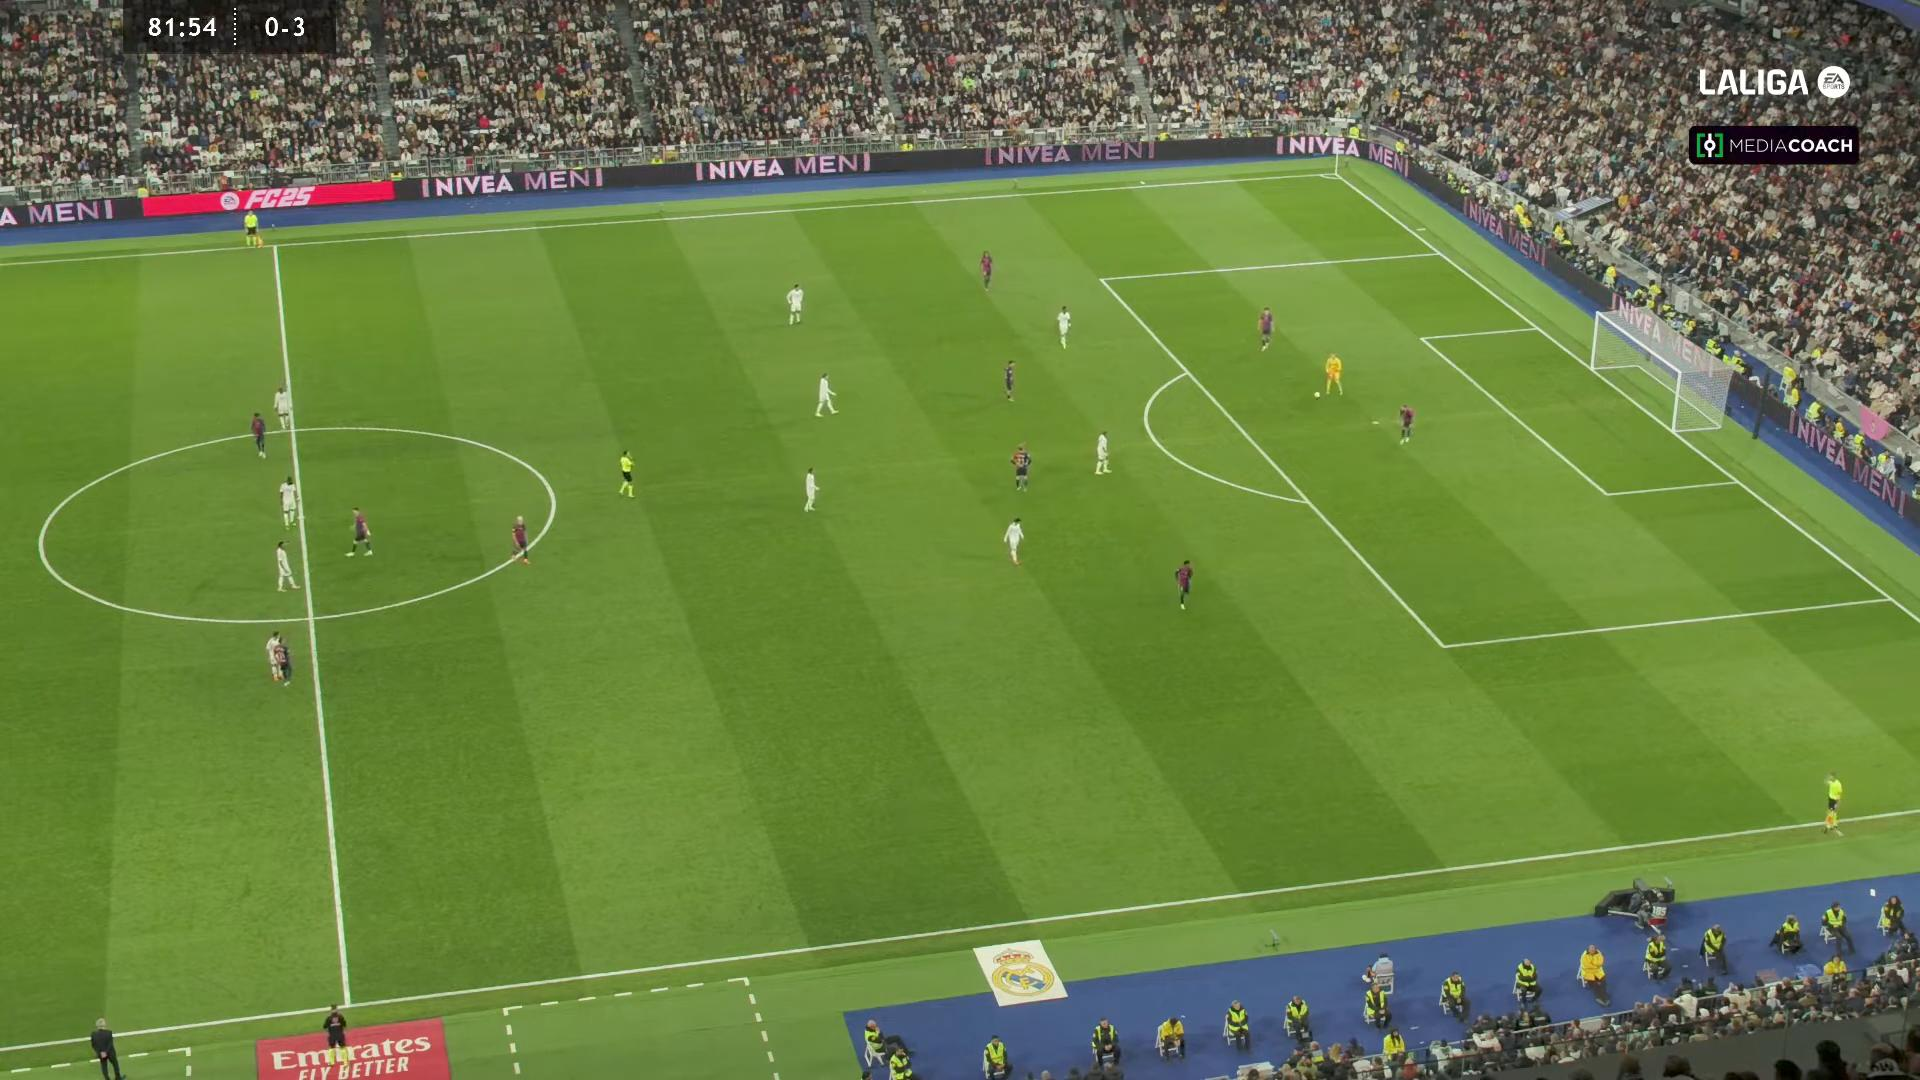ball: (1314, 391, 1320, 400)
goalkeeper: (1323, 352, 1343, 396)
player: (264, 630, 292, 686), (345, 506, 373, 557), (275, 540, 298, 592), (277, 475, 298, 529), (1002, 516, 1024, 565), (814, 371, 837, 417), (1009, 443, 1031, 491), (1173, 558, 1193, 610), (509, 514, 530, 563), (272, 384, 293, 431), (785, 282, 804, 325), (249, 411, 266, 459), (802, 466, 819, 512), (1257, 306, 1274, 352), (1093, 431, 1111, 474), (1397, 402, 1414, 445), (1055, 304, 1071, 349), (1003, 358, 1016, 402), (981, 251, 993, 292)
referee: (1822, 771, 1843, 834), (618, 447, 636, 496)
